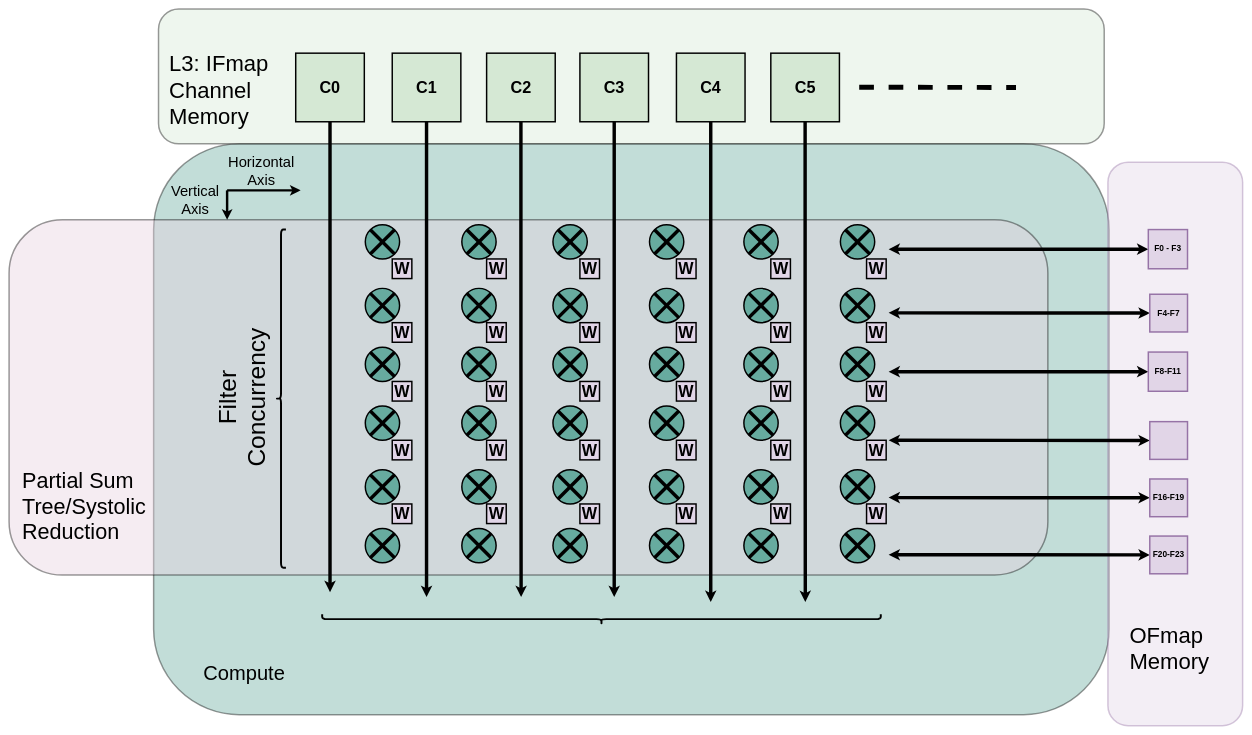
Image size: 1252x735. Some labels were removed from this diagram. The shapes that lost their labels are listed below. From the top down, each one's box as (x1, y1, x2, y2) in pixels, then its label:
(1149, 421, 1188, 460): F12-F15
(321, 613, 882, 625): Channel Concurrency
